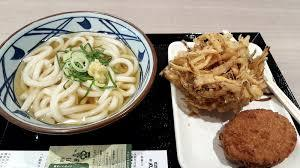bukkake: (1, 14, 150, 127)
kakiage: (169, 32, 275, 118)
